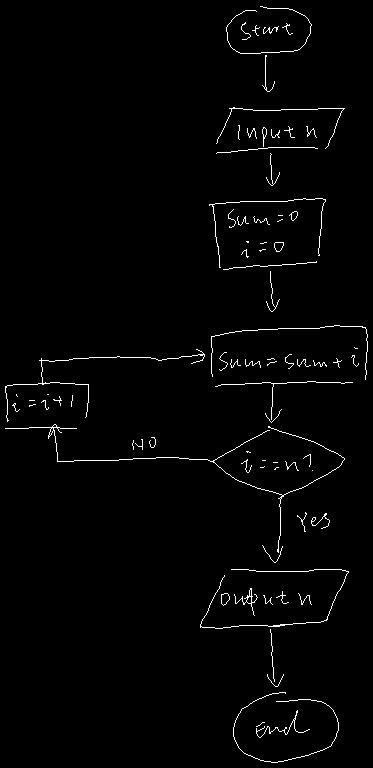arrow: (48, 424, 214, 462), (39, 349, 204, 384), (262, 496, 282, 562), (267, 629, 283, 686), (265, 384, 281, 422), (266, 271, 279, 311), (262, 55, 274, 91), (266, 153, 279, 185)
data: (200, 569, 348, 628), (216, 107, 344, 153)
decision: (213, 426, 344, 498)
process: (211, 325, 367, 386), (209, 198, 325, 269), (5, 382, 88, 428)
terminator: (233, 692, 338, 762), (226, 6, 311, 53)
text: (228, 209, 297, 257), (219, 347, 358, 370), (221, 588, 311, 615), (238, 125, 316, 146), (241, 451, 312, 472), (256, 710, 309, 737), (12, 394, 72, 411), (241, 22, 292, 39), (297, 512, 329, 531), (132, 437, 155, 449)
